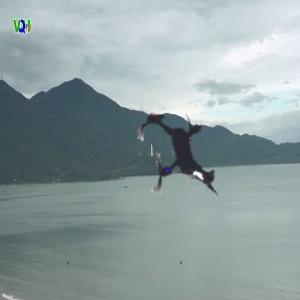drone: (97, 76, 259, 238)
